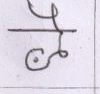au_matra: (41, 3, 70, 56)
